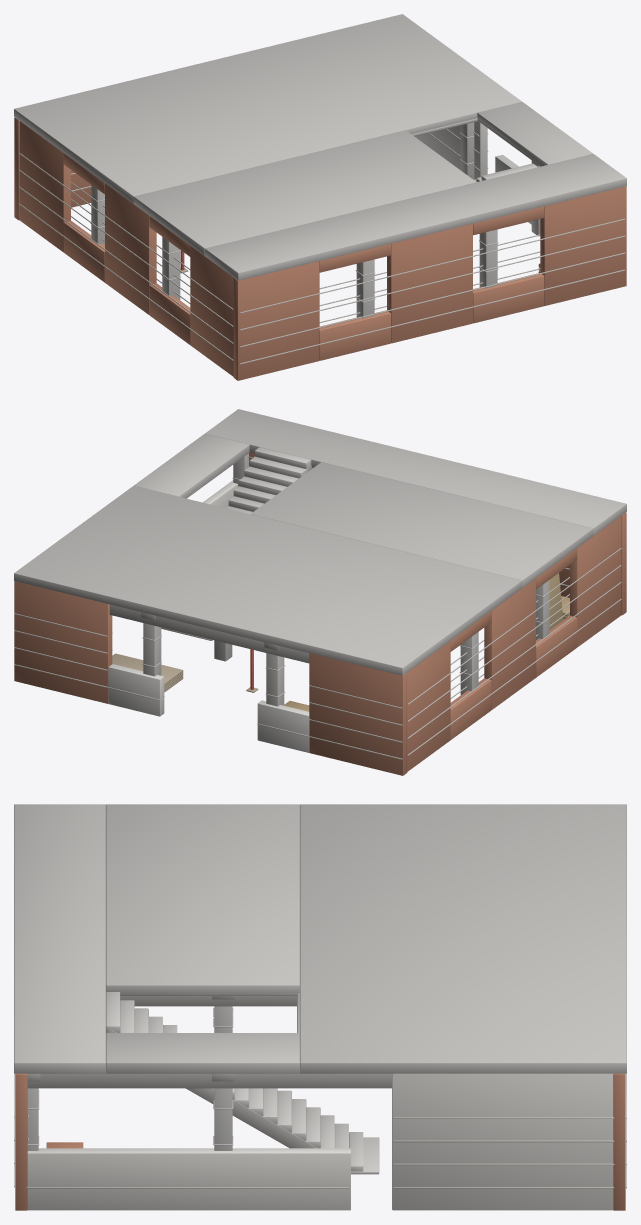
File: th21_rohbau.glb
The picture shows the model from 3 angles, top to bottom: view 1: azimuth 30°, elevation 25°; view 2: azimuth 150°, elevation 25°; view 3: azimuth 270°, elevation 25°; orthographic projection. The views are drawn at different scales.
Visible parts, largest first — view 1: Cube.087, Cube.088, Cube.086, Cube.093, Cube.095, Cube.094, Cube.109, Cube.110, Cube.108, Cube.089, Cube.099, Cube.097 (+16 smaller); view 2: Cube.087, Cube.088, Cube.086, Cube.135, Cube.147, Cube.108, Cube.109, Cube.110, Cube.089, Cube.156, Cube.144, Cube.085 (+13 smaller); view 3: Cube.087, Cube.088, Cube.126, Cube.086, Cube.123, Cube.089, Cube.083, Cube.082, Cube.095, Cube.147, Cube.177, Cube.065 (+8 smaller).
Part boxes in pixels (x1,y1,x2,y2): Cube.087: [14, 14, 521, 203]; Cube.088: [133, 130, 476, 255]; Cube.086: [205, 154, 626, 280]; Cube.093: [233, 261, 319, 380]; Cube.095: [540, 186, 626, 305]; Cube.094: [387, 223, 472, 343]; Cube.109: [105, 183, 156, 314]; Cube.110: [19, 121, 70, 252]; Cube.108: [190, 246, 233, 376]; Cube.089: [477, 101, 592, 165]; Cube.099: [473, 273, 544, 323]; Cube.097: [319, 310, 390, 360]; Cube.087: [14, 486, 522, 675]; Cube.088: [251, 462, 593, 587]; Cube.086: [205, 409, 626, 535]; Cube.135: [309, 653, 407, 775]; Cube.147: [14, 581, 112, 703]; Cube.108: [570, 516, 621, 647]; Cube.109: [484, 578, 535, 709]; Cube.110: [407, 641, 450, 771]; Cube.089: [134, 434, 249, 498]; Cube.156: [108, 664, 164, 716]; Cube.144: [257, 700, 309, 752]; Cube.085: [109, 604, 309, 663]; Cube.087: [300, 804, 626, 1073]; Cube.088: [106, 804, 299, 995]; Cube.126: [392, 1073, 613, 1210]; Cube.086: [14, 804, 105, 1073]; Cube.123: [27, 1148, 350, 1210]; Cube.089: [106, 1033, 299, 1073]; Cube.083: [27, 1073, 391, 1088]; Cube.082: [120, 996, 296, 1006]; Cube.095: [15, 1073, 27, 1210]; Cube.147: [613, 1073, 625, 1210]; Cube.177: [107, 1000, 334, 1148]; Cube.065: [214, 1088, 232, 1150].
Size of the model in its own units: 12 by 3.2 by 12.
